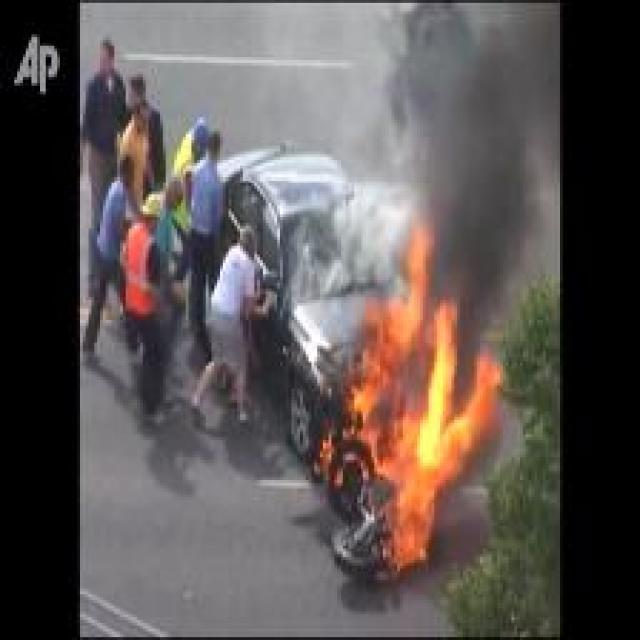Fire: (342, 226, 502, 572)
